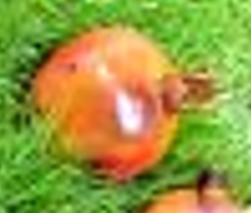pomegranate_B: (30, 25, 215, 181)
